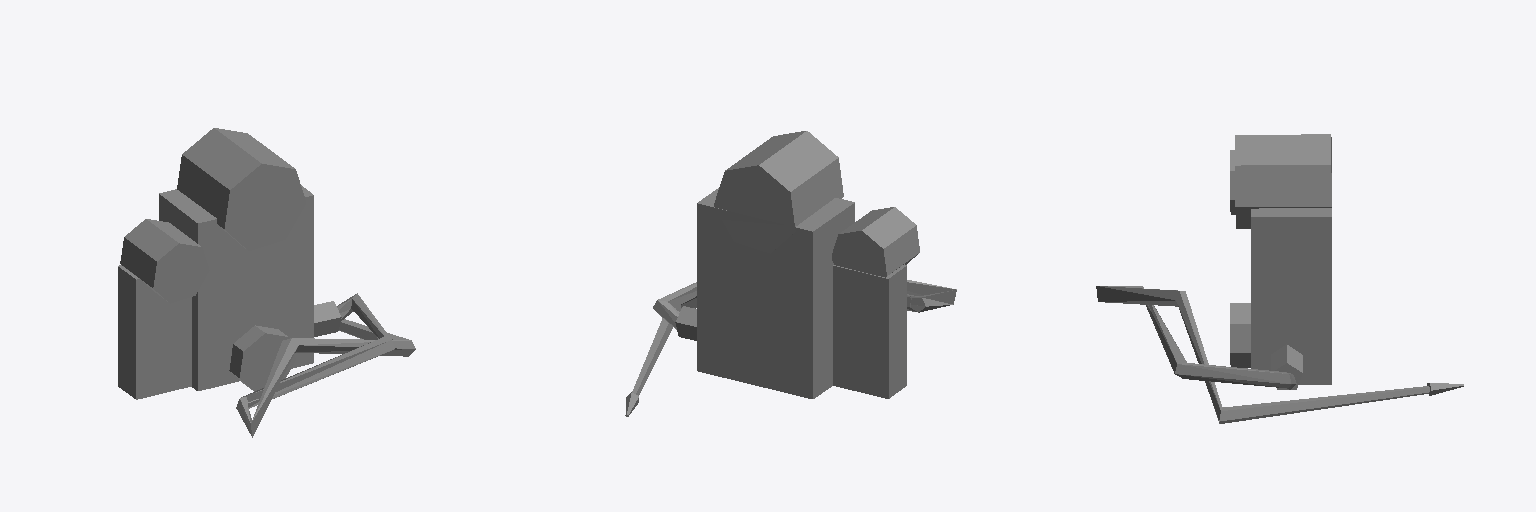
The model's file is elockpickmk1.obj.
3 renders of one model, left to right at view 1: azimuth 30°, elevation 25°; view 2: azimuth 150°, elevation 25°; view 3: azimuth 270°, elevation 25°, orthographic.
Visible parts, largest first — view 1: Cylinder02; view 2: Cylinder02; view 3: Cylinder02.
Boxes of the visible parts, x1,y1,x2,y2 form: Cylinder02: [118, 128, 415, 437]; Cylinder02: [625, 131, 956, 416]; Cylinder02: [1096, 134, 1463, 423].
Size of the model in its own units: 74.81 by 62.71 by 91.98.